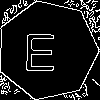E: (22, 25, 57, 71)
